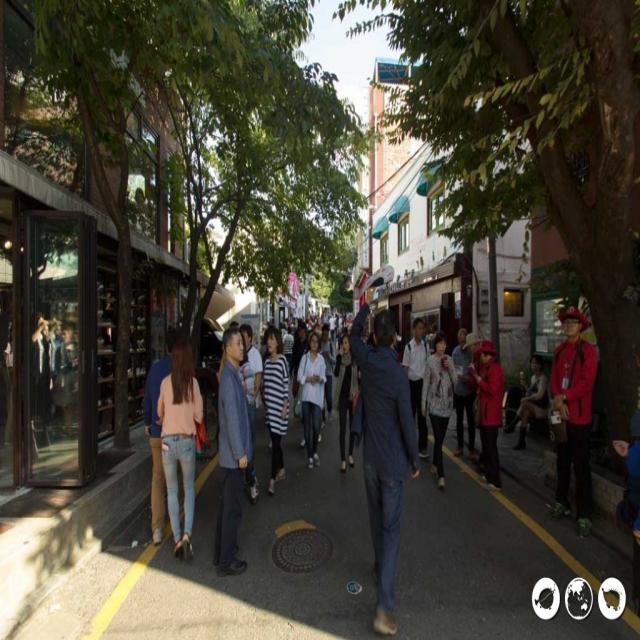body: (346, 273, 422, 638), (1, 310, 93, 466), (542, 302, 600, 542), (156, 337, 208, 566), (210, 326, 252, 579), (143, 324, 179, 545), (274, 297, 414, 353), (215, 333, 256, 519), (418, 326, 460, 494), (466, 338, 508, 492), (614, 378, 640, 625), (258, 326, 290, 497), (501, 351, 553, 452), (236, 328, 262, 504), (330, 331, 360, 478), (401, 316, 431, 459), (451, 328, 479, 462), (297, 330, 322, 470), (462, 333, 482, 483), (299, 332, 322, 449), (319, 324, 337, 431), (288, 321, 310, 399), (282, 326, 295, 368)
